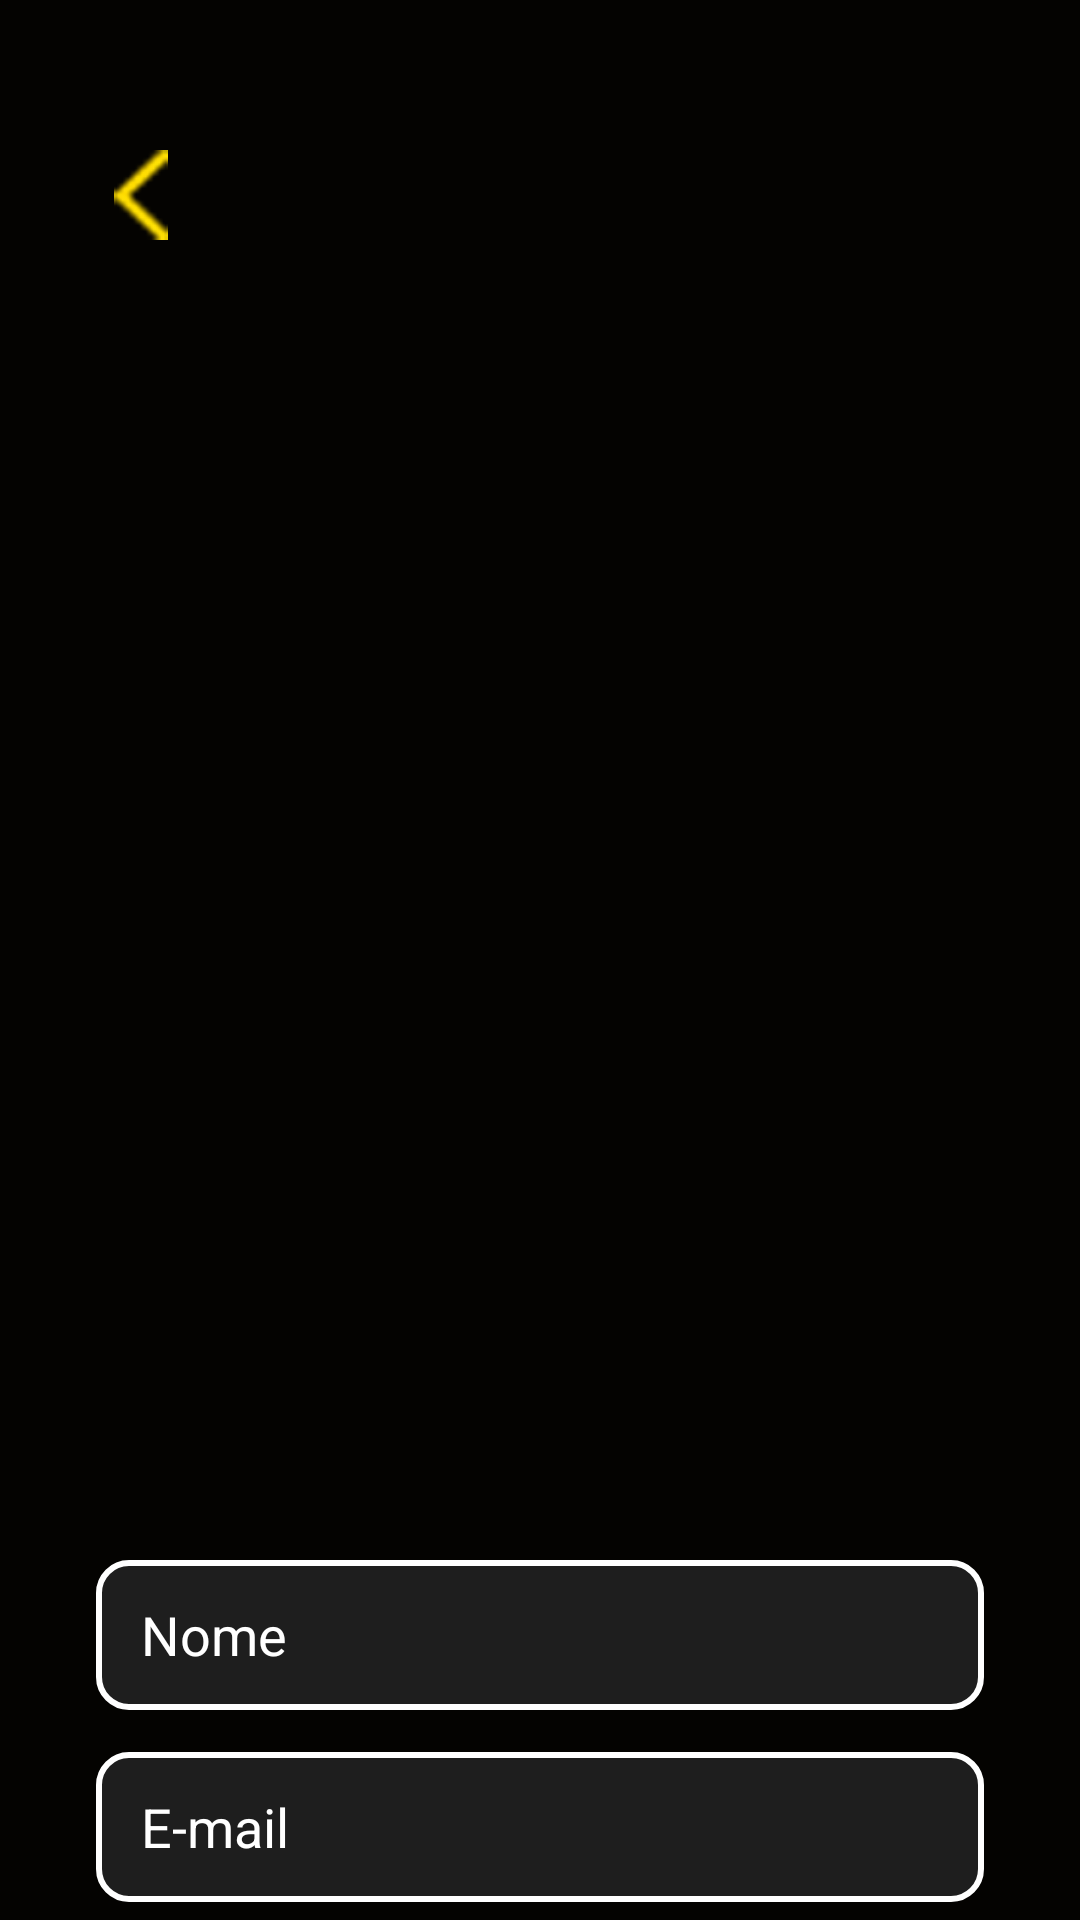

Icon click points for this 1080*1920 phone screenshot, format (x,y):
retornar: (141,195)
